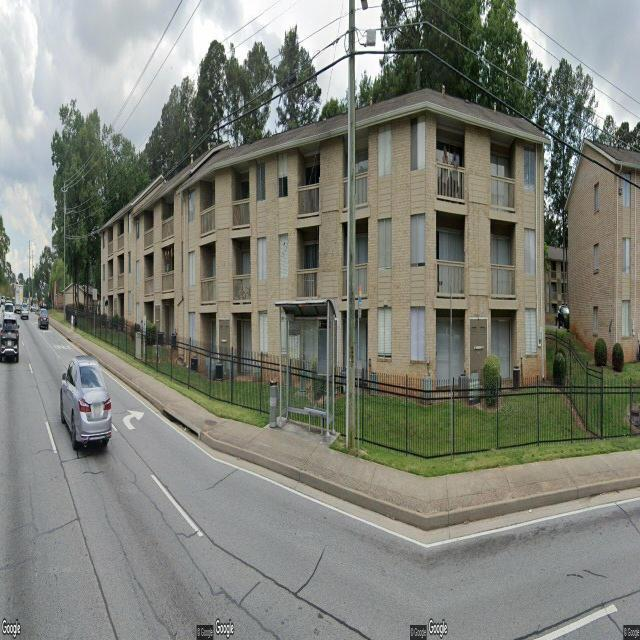seating: (300, 406, 325, 436)
shelter: (274, 297, 336, 442)
trash_can: (269, 379, 278, 426)
